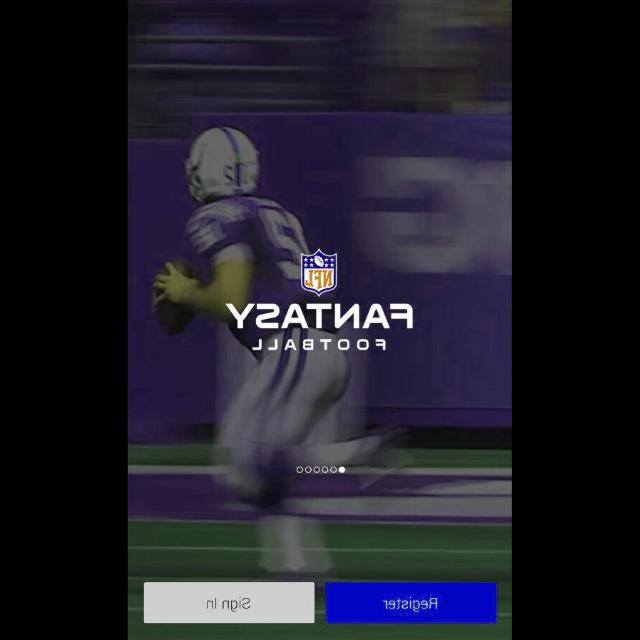backgroundimage: (128, 1, 512, 640)
image: (226, 248, 414, 352)
pageindicator: (296, 466, 346, 474)
textbutton: (144, 582, 316, 624), (327, 582, 498, 624)
